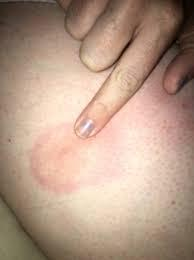Tick: (26, 121, 99, 196)
